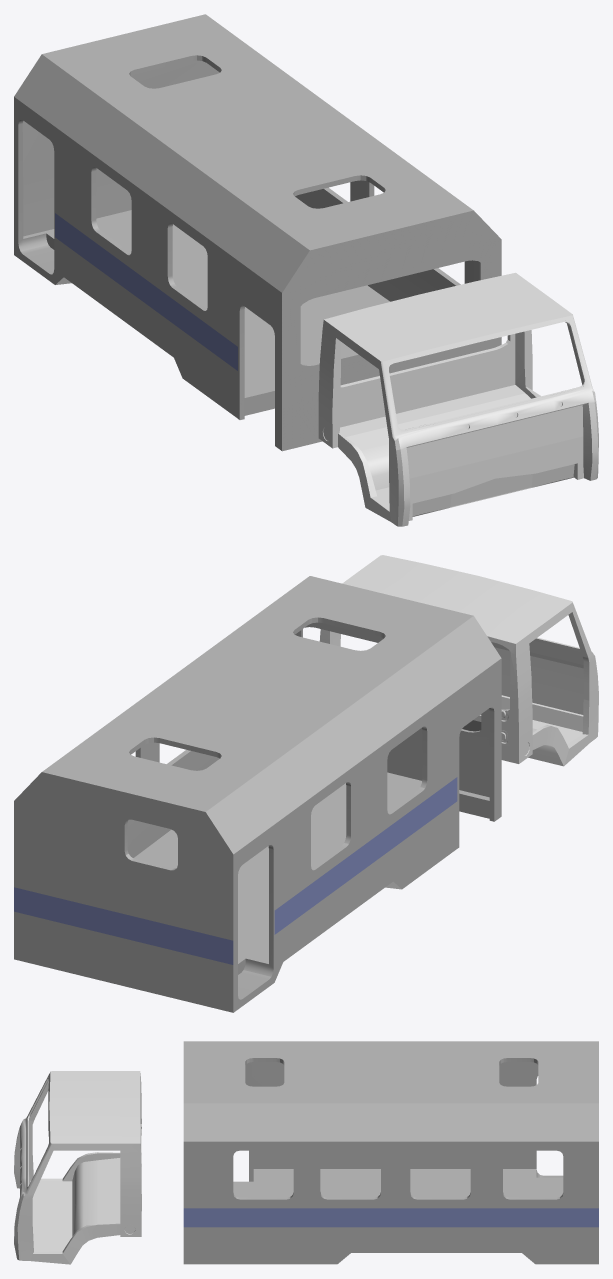
3 renders of one model, top to bottom at view 1: azimuth 30°, elevation 25°; view 2: azimuth 150°, elevation 25°; view 3: azimuth 270°, elevation 25°, orthographic. The views are drawn at different scales.
Parts seen in each view (by area): view 1: polySurface3774.002, polySurface4318.001; view 2: polySurface3774.002, polySurface4318.001; view 3: polySurface3774.002, polySurface4318.001.
Part boxes in pixels (bbox=[...]): polySurface3774.002: bbox=[14, 14, 501, 451]; polySurface4318.001: bbox=[318, 272, 598, 526]; polySurface3774.002: bbox=[14, 576, 501, 1012]; polySurface4318.001: bbox=[319, 555, 598, 766]; polySurface3774.002: bbox=[183, 1041, 598, 1264]; polySurface4318.001: bbox=[14, 1071, 141, 1264].
Bounding box in the file's own units: 2.84 × 2.47 × 8.46.
